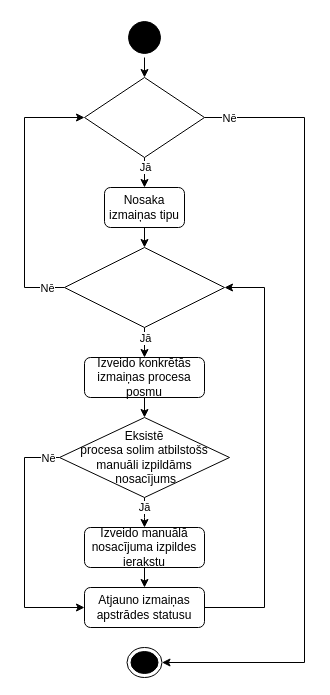
Some shapes in this 330 by 695 pixel diagram are drawn without their labels. Each missing label, with the box of its shape:
Eksistē izmaiņas tipam atbilstošs scenārija solis: (64, 246, 224, 328)
Eksistē vēl neapstrādāta izmaiņa: (84, 76, 204, 158)
